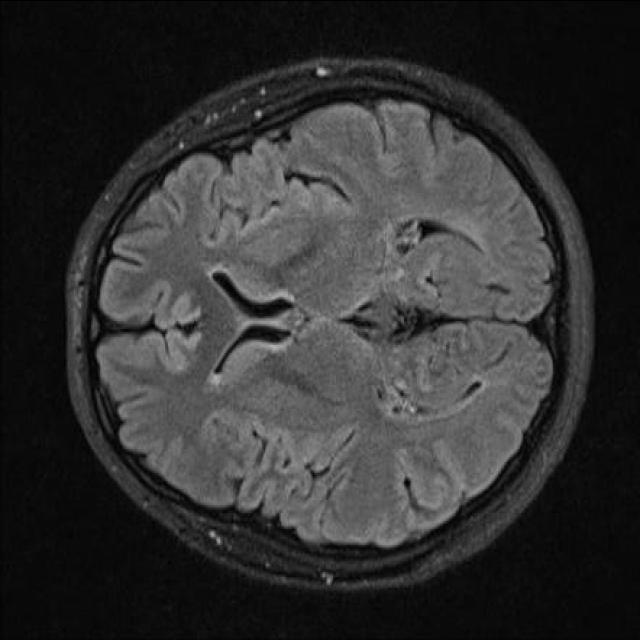No_Tumor: (67, 60, 592, 588)
